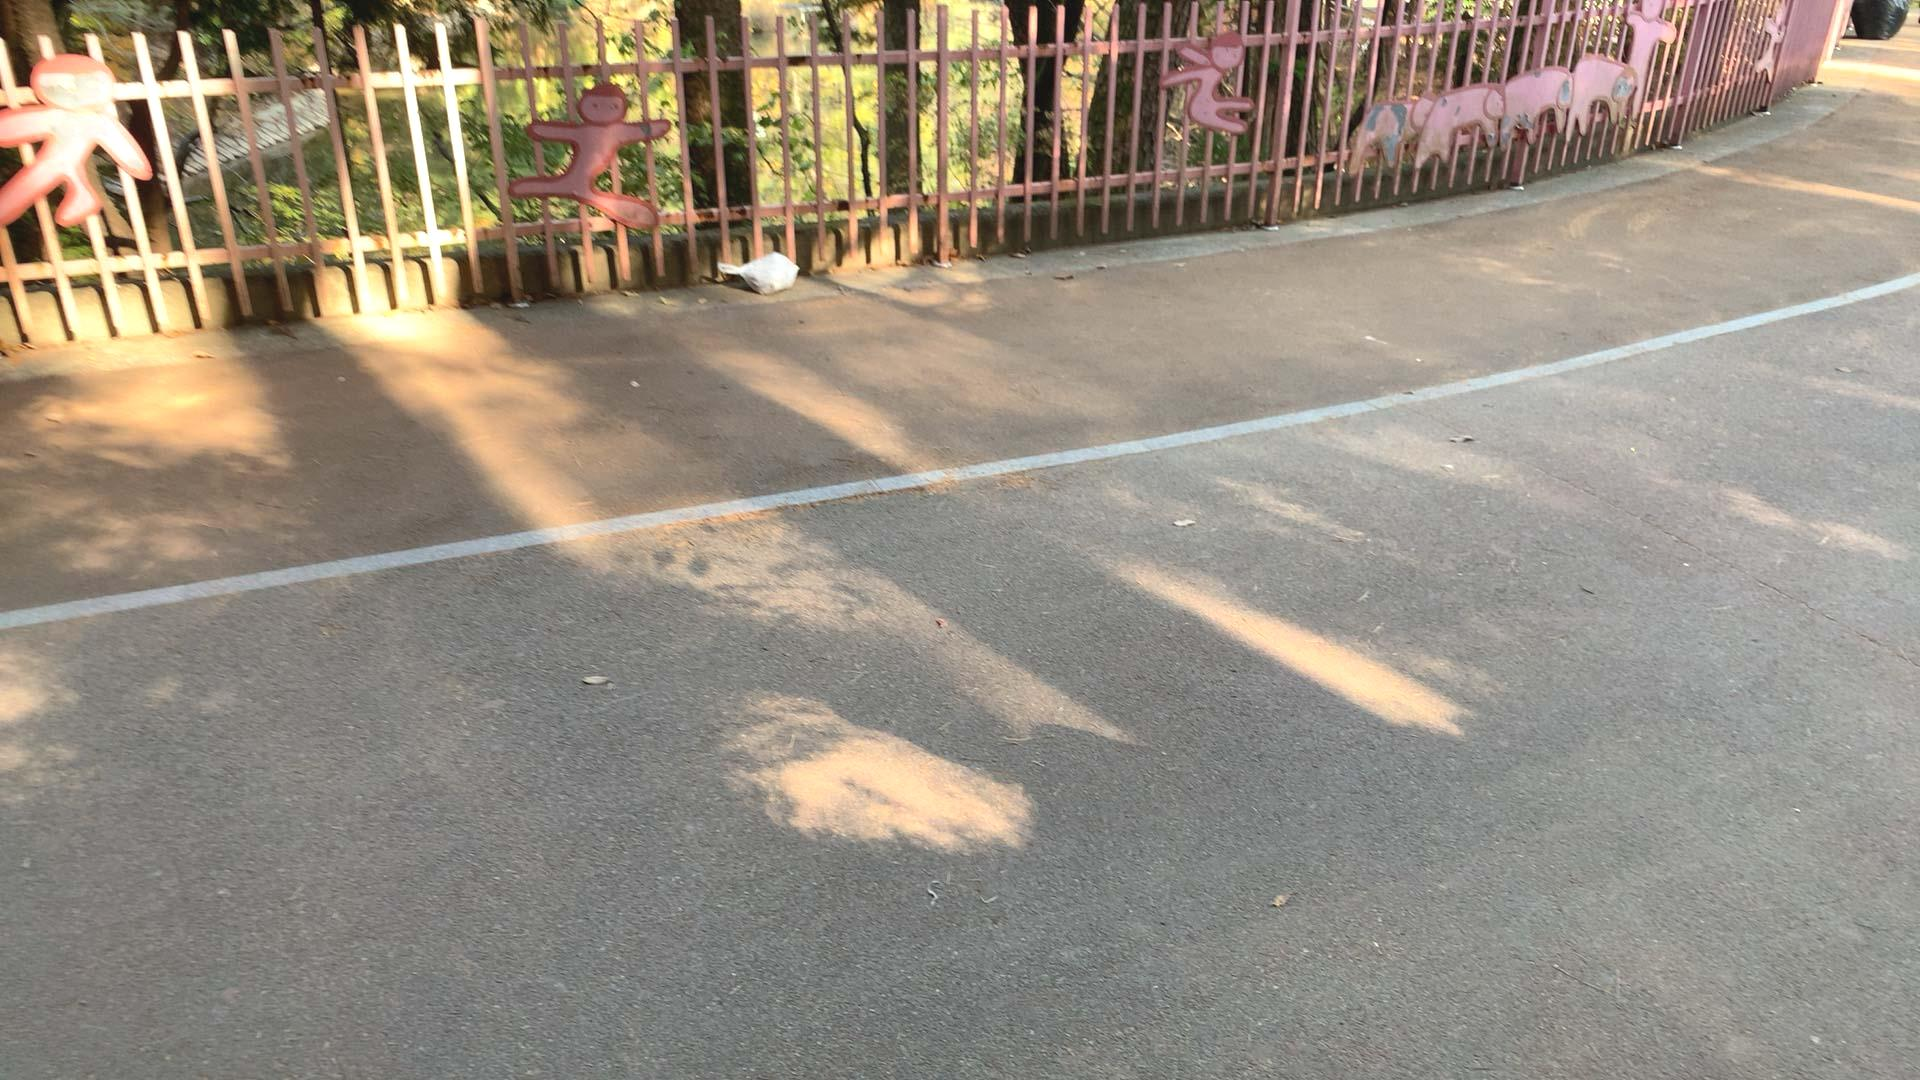white_bag: (712, 245, 802, 295)
